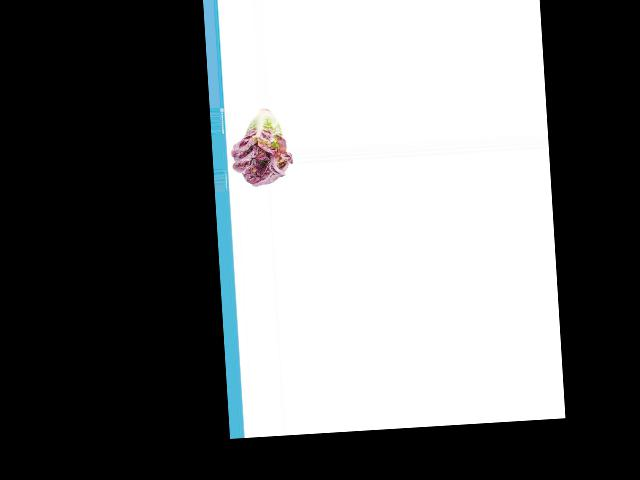lettuce: (228, 106, 292, 186)
